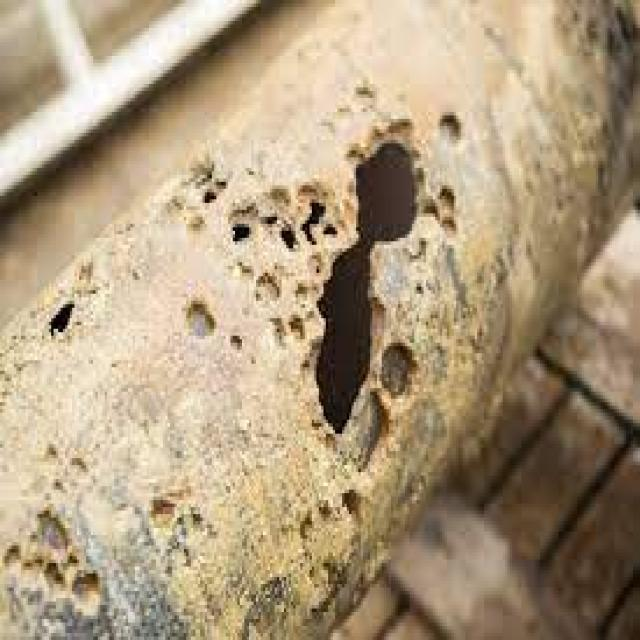hole: (315, 132, 426, 431), (380, 345, 428, 403), (297, 203, 330, 253), (43, 300, 85, 335), (441, 113, 471, 155), (185, 303, 216, 340), (234, 220, 255, 251), (213, 177, 228, 198)
